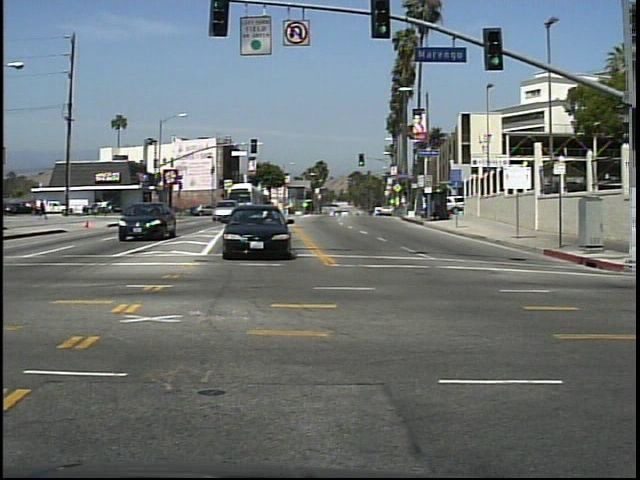person: (37, 194, 53, 223)
